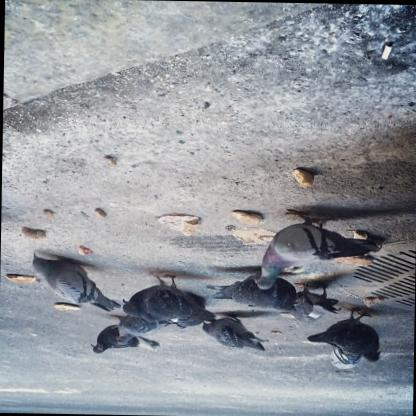manholes: (326, 226, 416, 334)
